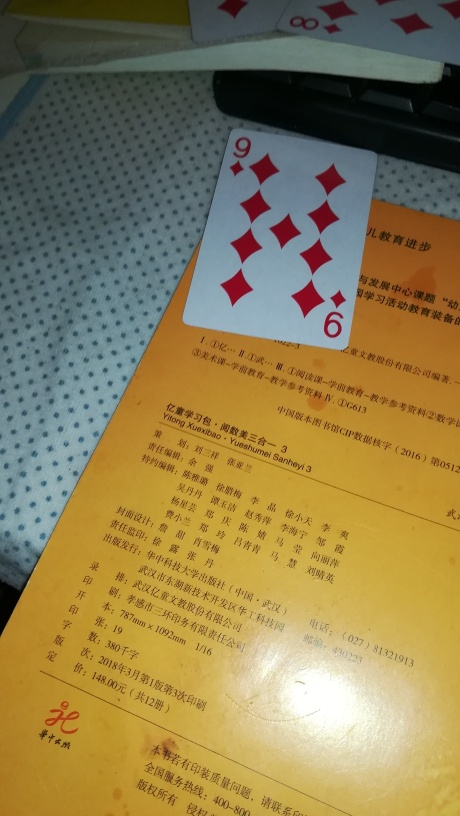fk 9: (182, 129, 377, 353)
